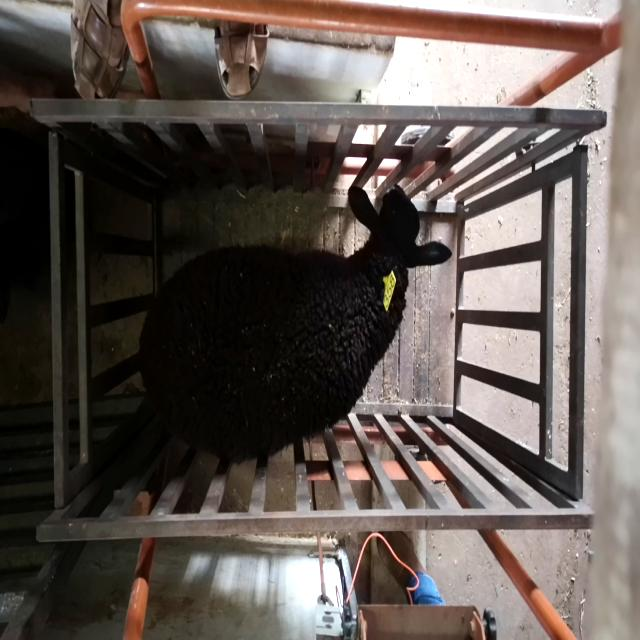sheep: (139, 184, 453, 464)
